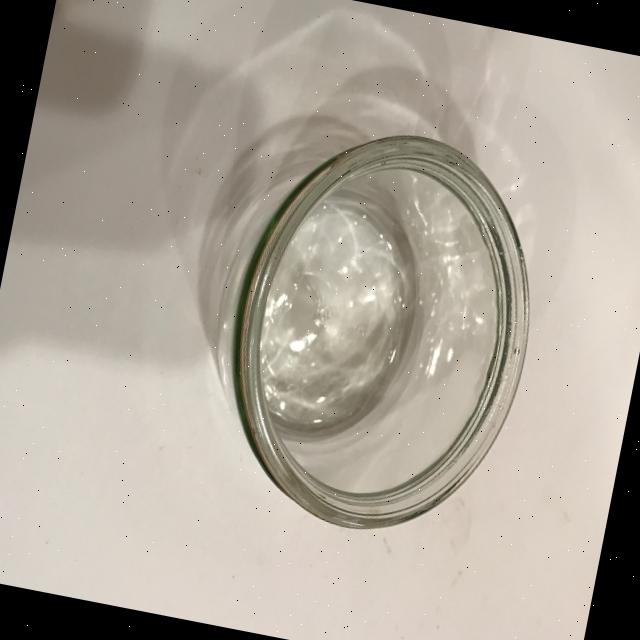glass: (192, 102, 564, 556)
